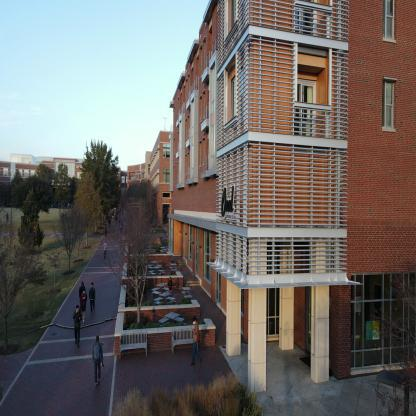Wolf Ridge: (166, 4, 415, 392)
